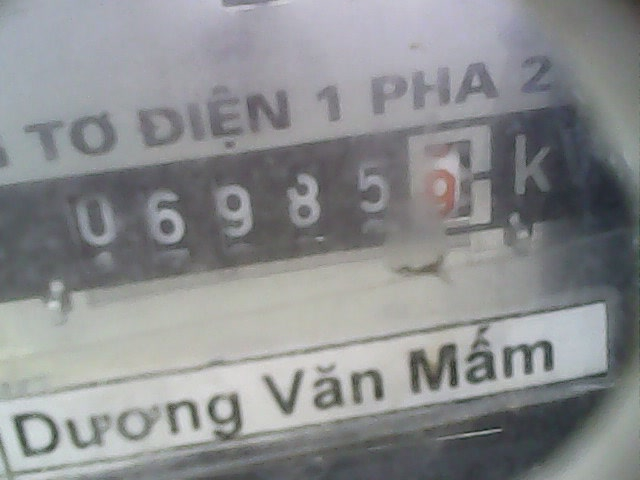phy_plate: (43, 117, 509, 283)
